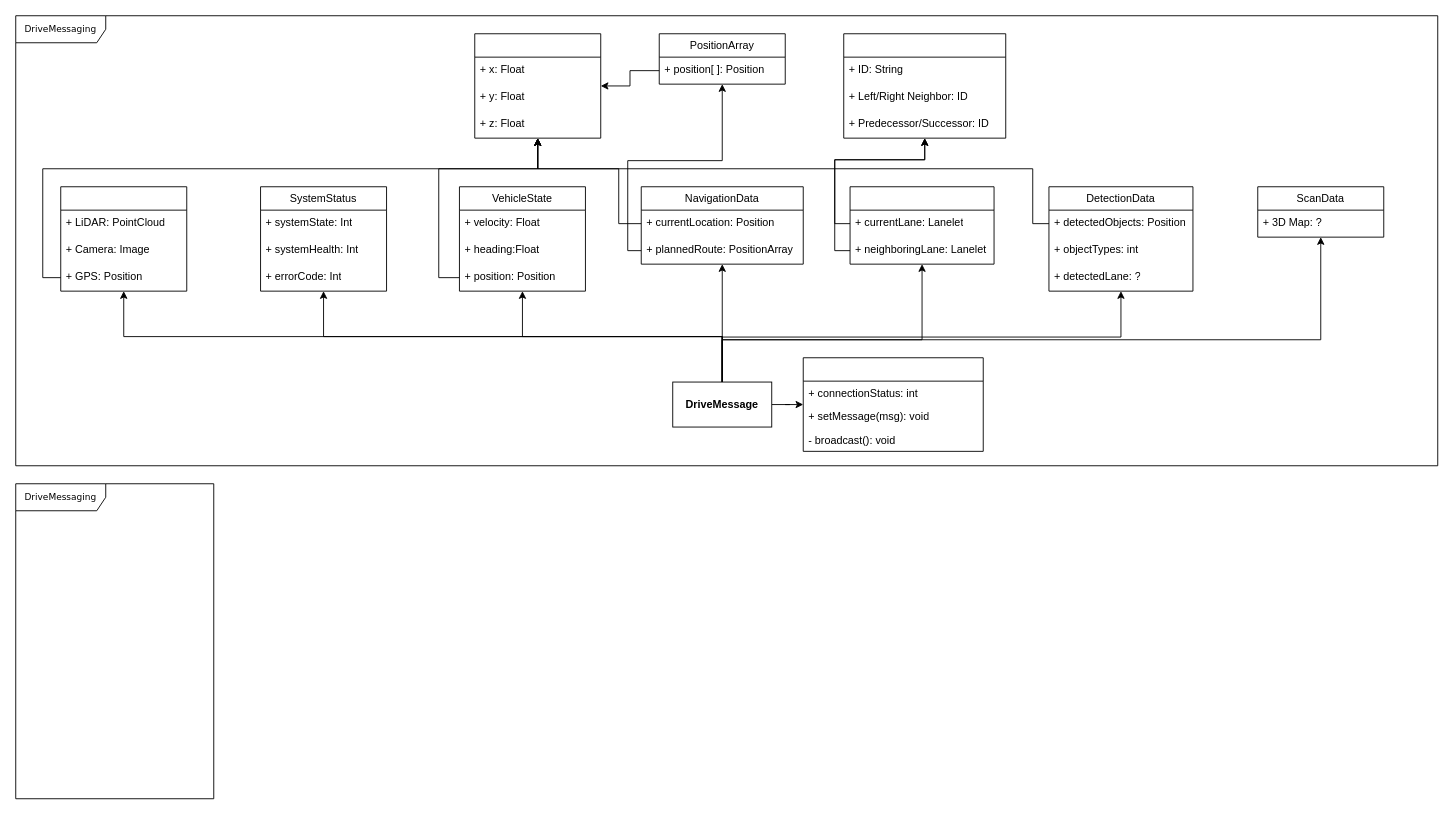
The diagram is 1454 pixels wide and 815 high, and some of its shapes have lost their labels. Each missing label, with the box of its shape:
CommunicationModule: (802, 357, 983, 451)
LaneData: (849, 186, 994, 264)
Lanelet: (843, 33, 1006, 138)
Position: (474, 33, 601, 138)
SensorData: (60, 186, 187, 291)
